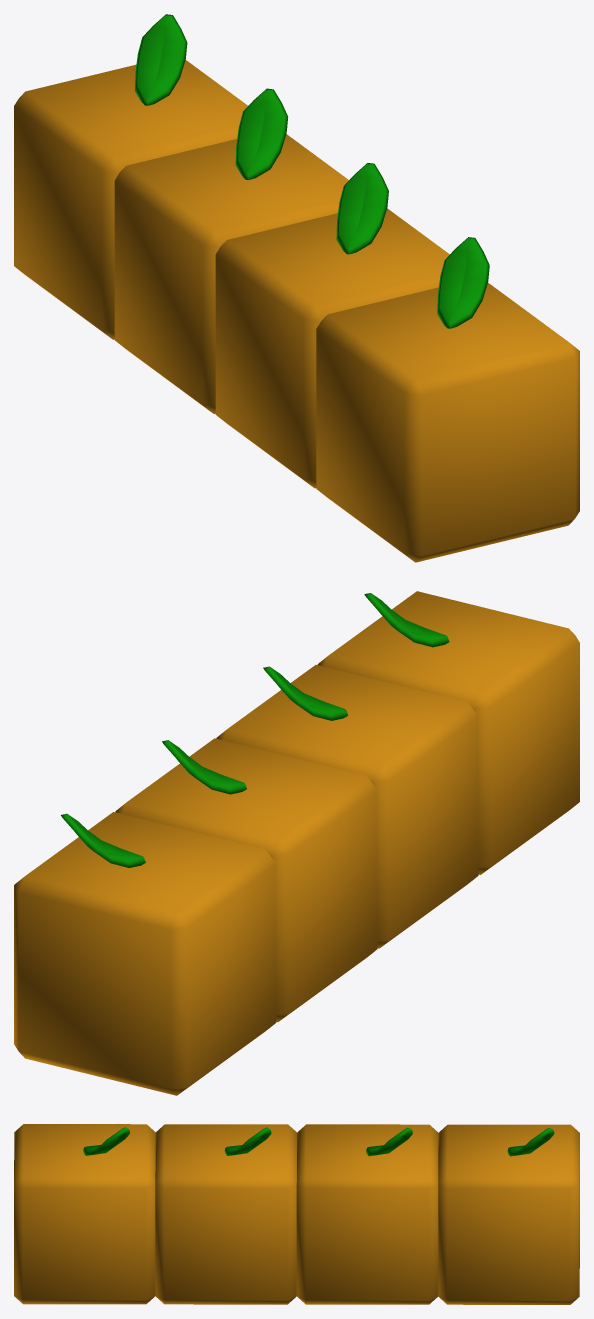
Rendered from pampkin_4.fbx.
3 renders of one model, top to bottom at view 1: azimuth 30°, elevation 25°; view 2: azimuth 150°, elevation 25°; view 3: azimuth 270°, elevation 25°, orthographic. The views are drawn at different scales.
Parts seen in each view (by area): view 1: 立方体.001; view 2: 立方体.001; view 3: 立方体.001.
Boxes of the visible parts, bbox=[...] form: 立方体.001: bbox=[14, 14, 579, 562]; 立方体.001: bbox=[14, 591, 579, 1095]; 立方体.001: bbox=[14, 1124, 579, 1304].
Bounding box in the file's own units: 13.95 × 18.02 × 55.21.
